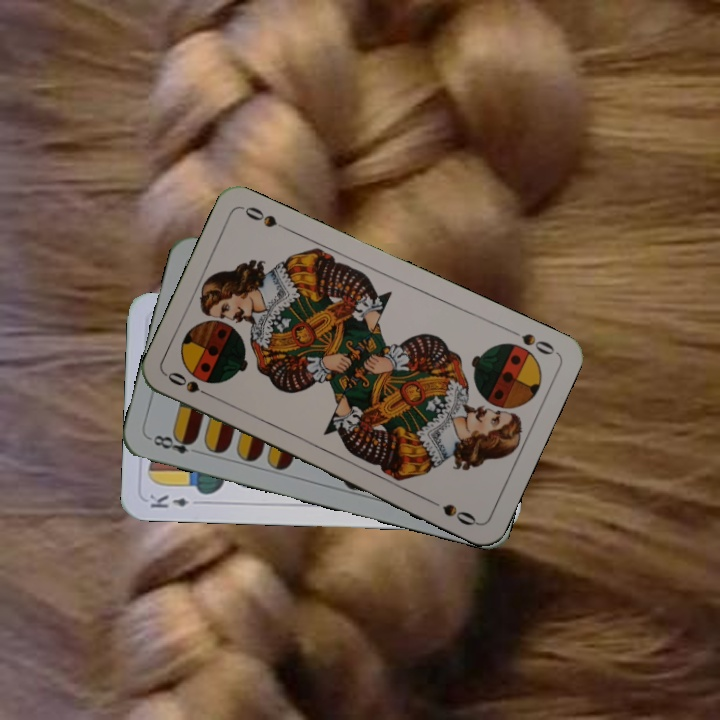E8: (146, 430, 204, 457)
EK: (145, 491, 191, 511)
SO: (163, 367, 219, 402), (503, 324, 557, 358)
